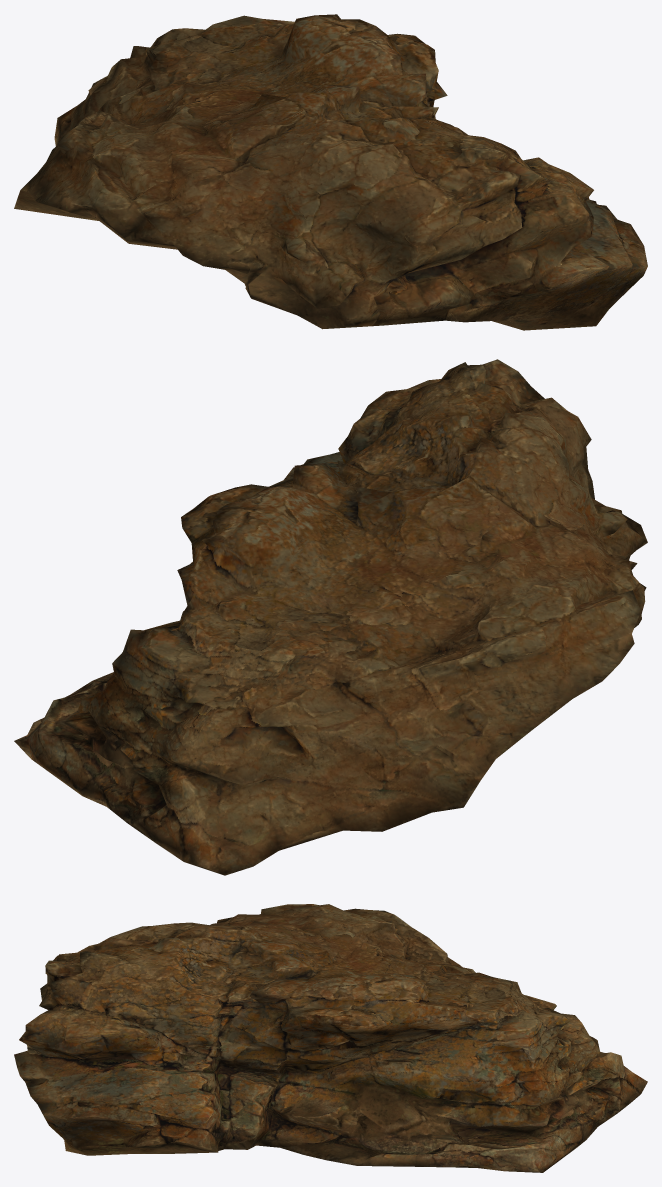
The model's file is mm6_deco_rock13.glb.
The picture shows the model from 3 angles, top to bottom: view 1: azimuth 30°, elevation 25°; view 2: azimuth 150°, elevation 25°; view 3: azimuth 270°, elevation 25°; orthographic projection. The views are drawn at different scales.
Visible parts, largest first — view 1: Rock13; view 2: Rock13; view 3: Rock13.
Boxes of the visible parts, x1,y1,x2,y2 form: Rock13: [14, 14, 647, 330]; Rock13: [14, 359, 647, 875]; Rock13: [14, 904, 647, 1172].
Bounding box in the file's own units: 1.28 × 0.55 × 1.83.
Materials: 1 (1 with a texture image).
